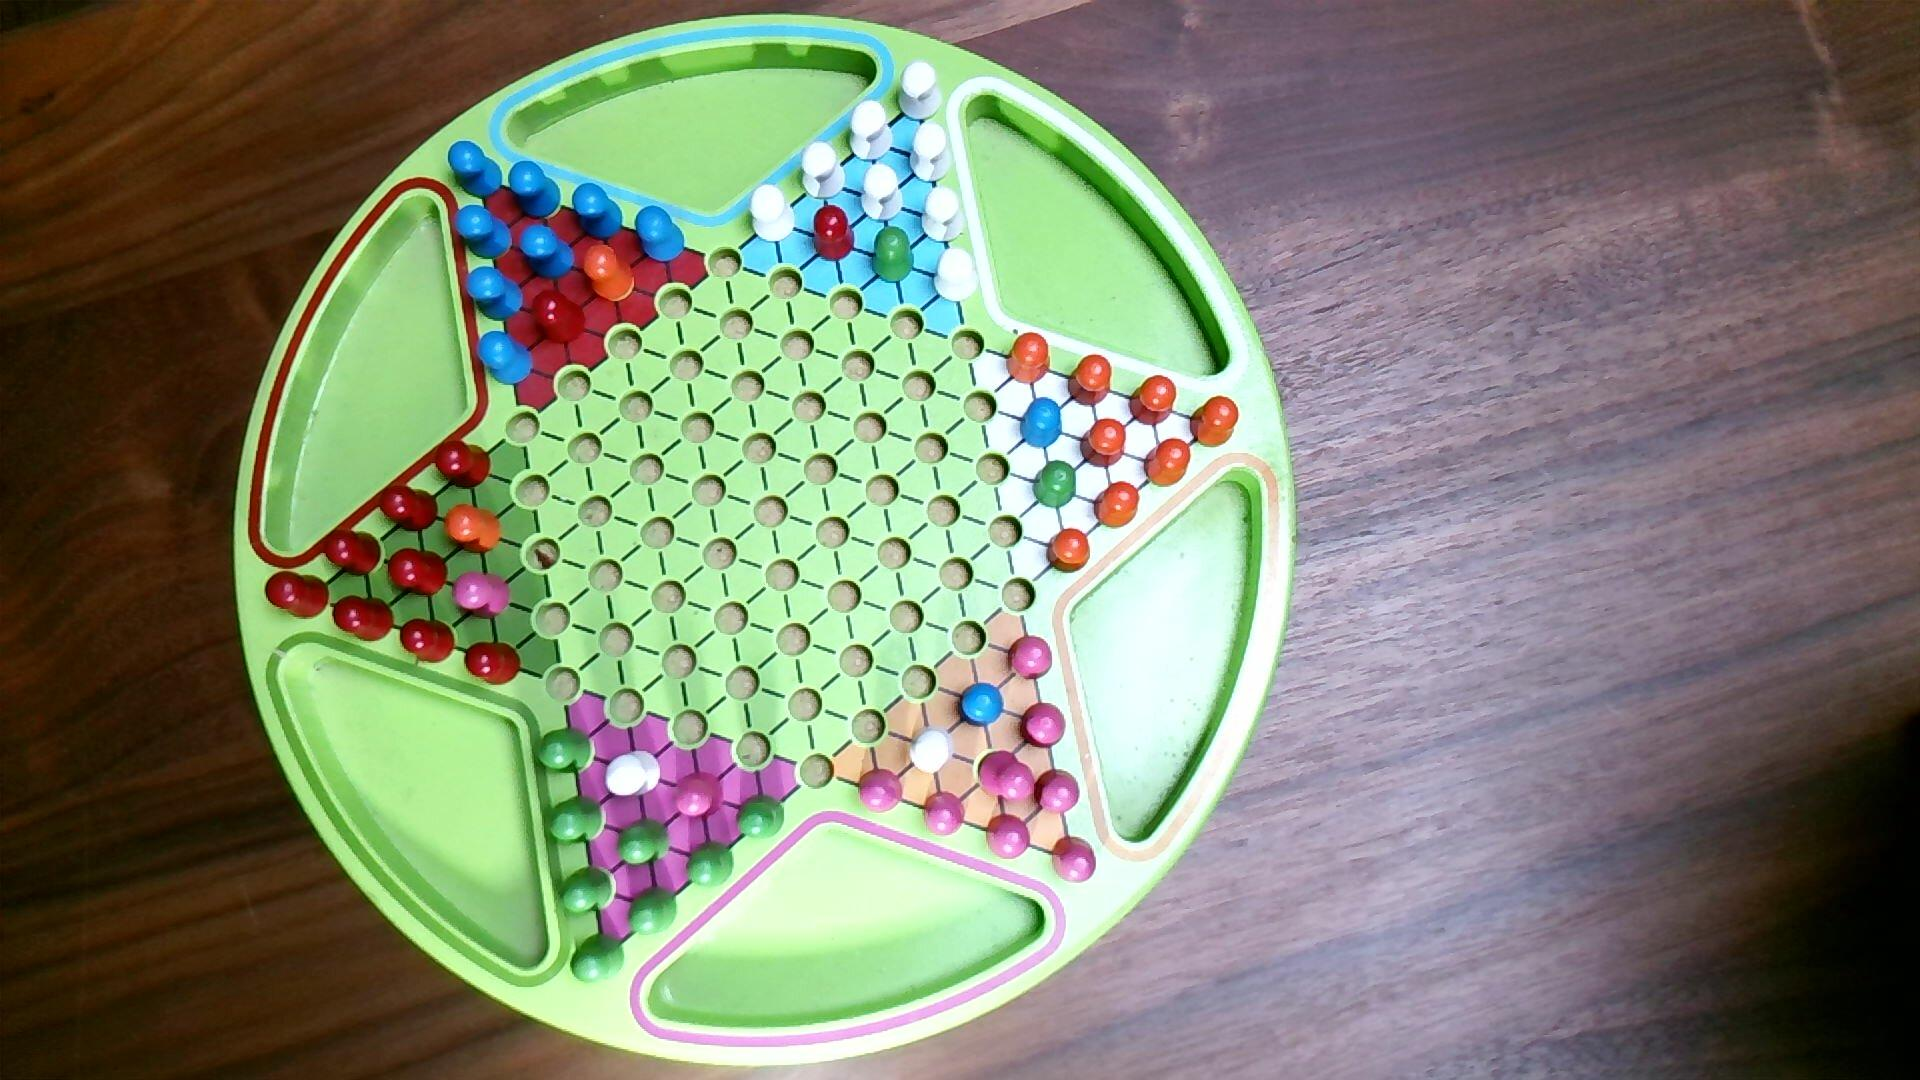B: (465, 265, 526, 324), (454, 204, 516, 262), (447, 140, 505, 202), (518, 223, 578, 282), (476, 330, 535, 386), (508, 160, 563, 220), (634, 204, 687, 266), (572, 182, 625, 243), (955, 680, 1006, 731), (1021, 396, 1064, 452)
G: (546, 794, 607, 847), (558, 864, 616, 918), (534, 727, 596, 777), (571, 931, 626, 986), (626, 884, 680, 938), (616, 818, 673, 869), (684, 839, 737, 891), (870, 224, 916, 284), (735, 793, 787, 843), (1033, 458, 1079, 512)
O: (582, 243, 637, 305), (442, 502, 502, 556), (1188, 396, 1241, 450), (1127, 375, 1178, 429), (1143, 436, 1193, 491), (1005, 331, 1052, 386), (1092, 480, 1142, 531), (1079, 417, 1127, 469), (1068, 353, 1114, 409), (1046, 526, 1093, 576)
R: (264, 570, 331, 622), (529, 287, 587, 345), (433, 436, 493, 492), (377, 483, 440, 535), (320, 527, 384, 579), (386, 547, 450, 599), (332, 593, 396, 644), (464, 640, 524, 687), (400, 617, 456, 665), (812, 203, 856, 264)
R2: (975, 749, 1036, 804), (451, 570, 512, 620), (674, 770, 727, 823), (1033, 767, 1083, 818), (1019, 702, 1068, 752), (1051, 835, 1098, 886), (985, 812, 1033, 862), (857, 767, 905, 816), (1007, 634, 1055, 683), (922, 789, 967, 839)
W: (603, 749, 665, 800), (848, 99, 895, 164), (895, 62, 945, 123), (910, 119, 955, 185), (920, 185, 968, 247), (749, 185, 796, 245), (800, 141, 847, 202), (860, 162, 906, 223), (934, 247, 981, 305), (909, 727, 956, 775)
